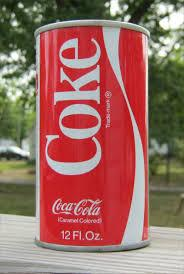Aluminum can: (24, 12, 161, 263)
